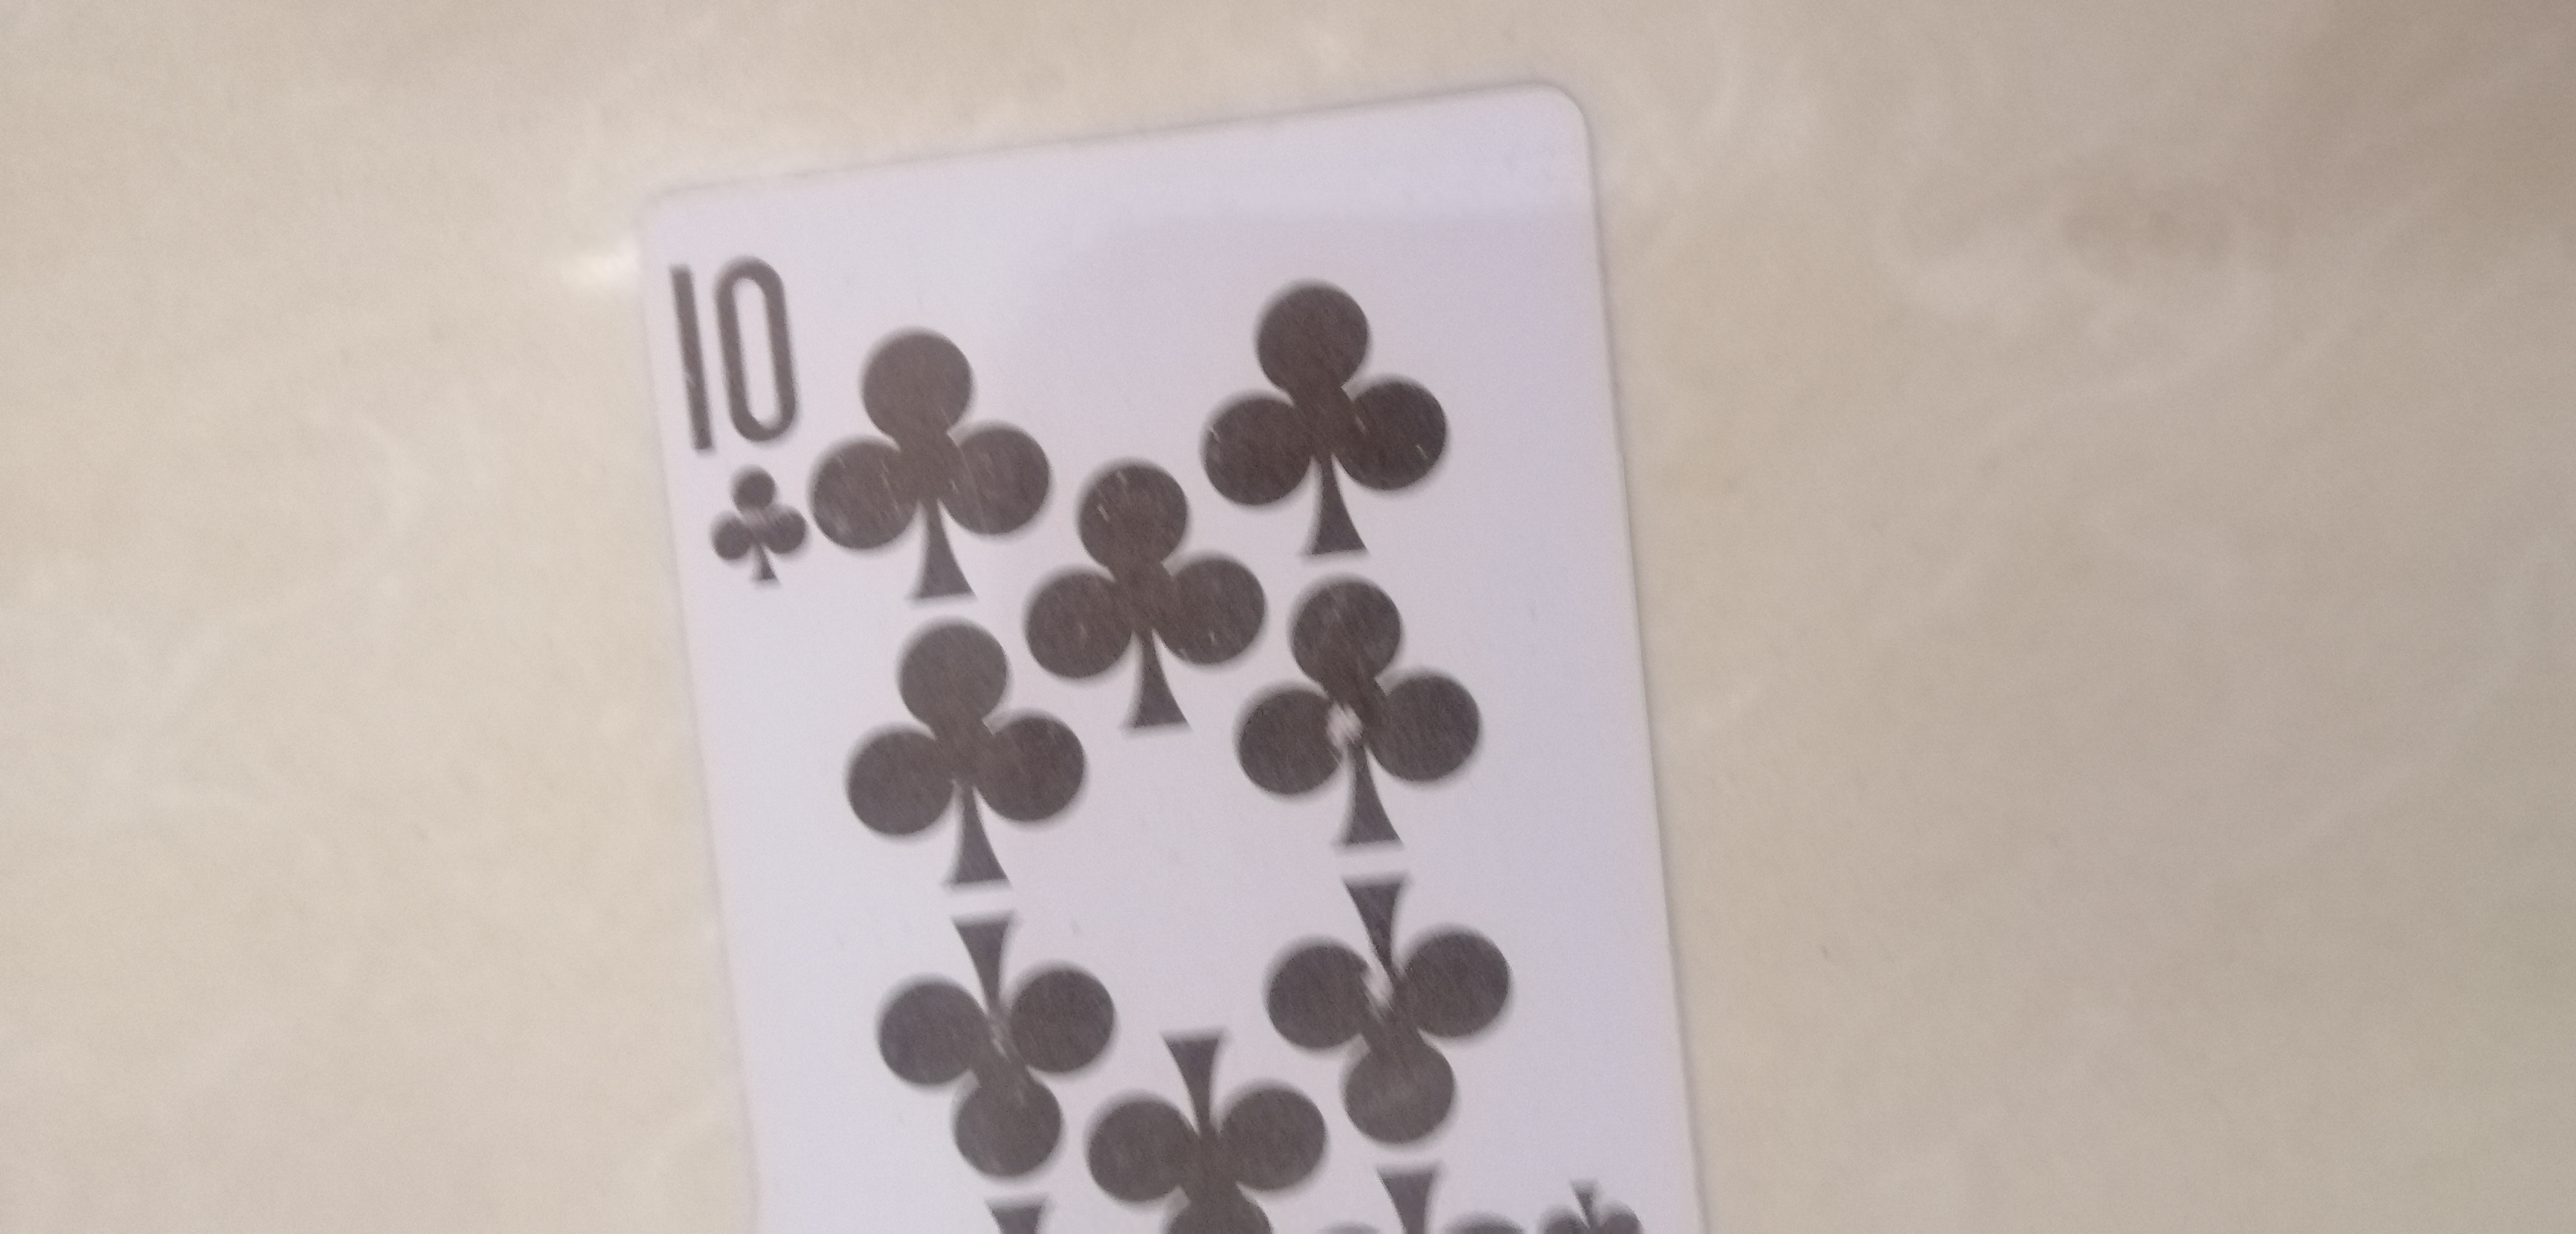ten: (624, 90, 1717, 1234)
